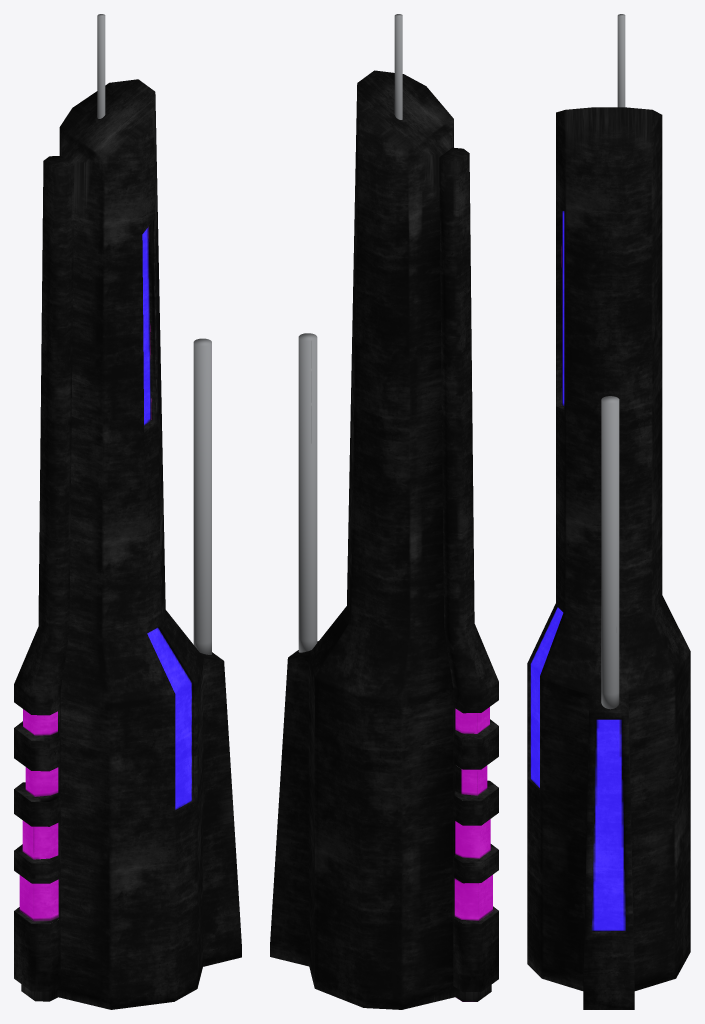
The model's file is building1.fbx.
3 views of the same model, side by side, from view 1: azimuth 30°, elevation 25°; view 2: azimuth 150°, elevation 25°; view 3: azimuth 270°, elevation 25° (orthographic). The views are drawn at different scales.
Visible parts, largest first — view 1: Окружность; view 2: Окружность; view 3: Окружность.
Boxes of the visible parts, box(x1,y1,x2,y2) form: Окружность: box(14, 14, 241, 1009); Окружность: box(270, 14, 498, 1009); Окружность: box(527, 14, 690, 1009).
Bounding box in the file's own units: 280 × 1246 × 197.
1 material, 1 textured.
